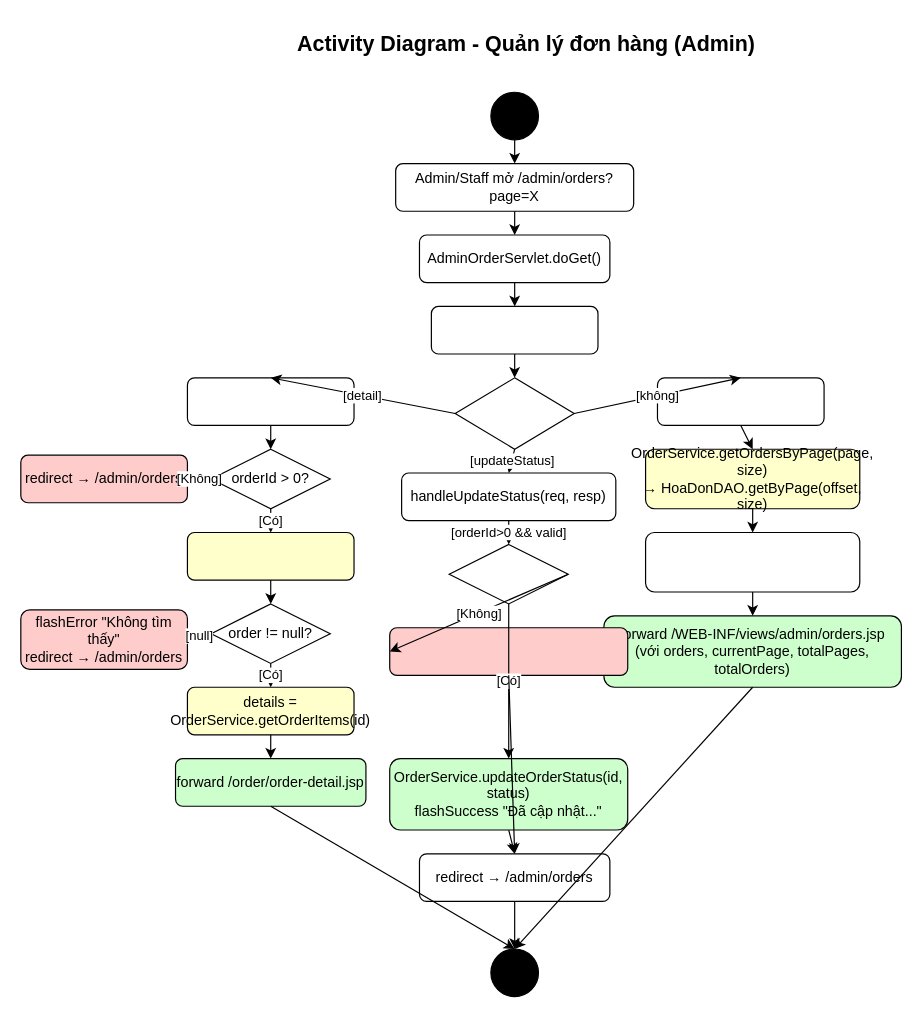
Image size: 922x1017. Some labels were removed from this diagram. Each missing label, with the box of its shape:
flashError "Trạng thái không hợp lệ": (389, 627, 628, 675)
handleDetail(req, resp): (186, 377, 354, 425)
Lấy action parameter: (430, 305, 598, 354)
Lấy page, pageSize: (656, 377, 824, 425)
order = OrderService.getOrderDetail(id): (186, 531, 354, 580)
status hợp lệ?: (448, 543, 568, 604)
totalOrders = countAllOrders() totalPages = calcTotalPages(size): (644, 531, 860, 592)
